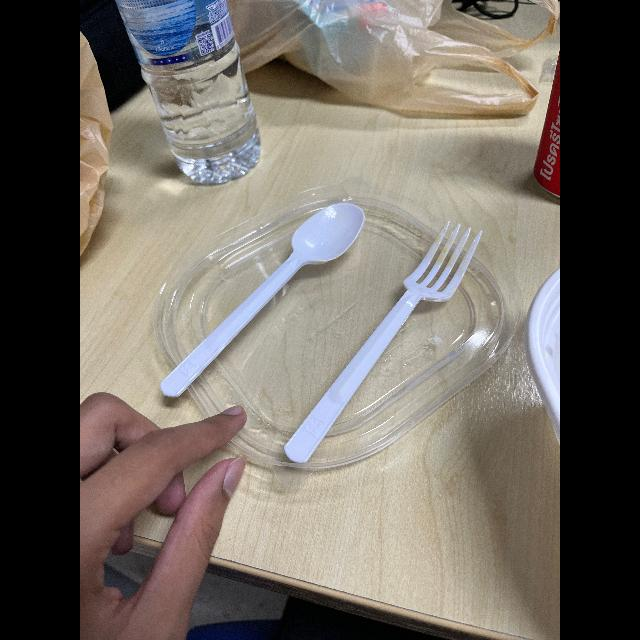plastic_cultery: (282, 212, 494, 470), (164, 198, 376, 402)
